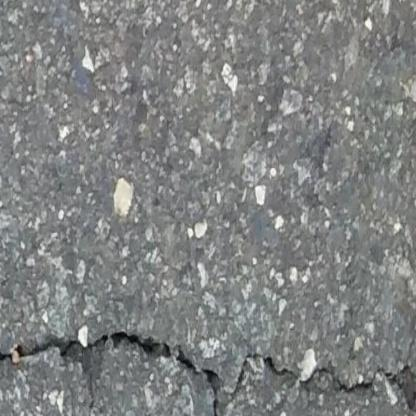Cracks: (0, 323, 245, 416), (242, 354, 416, 416)
